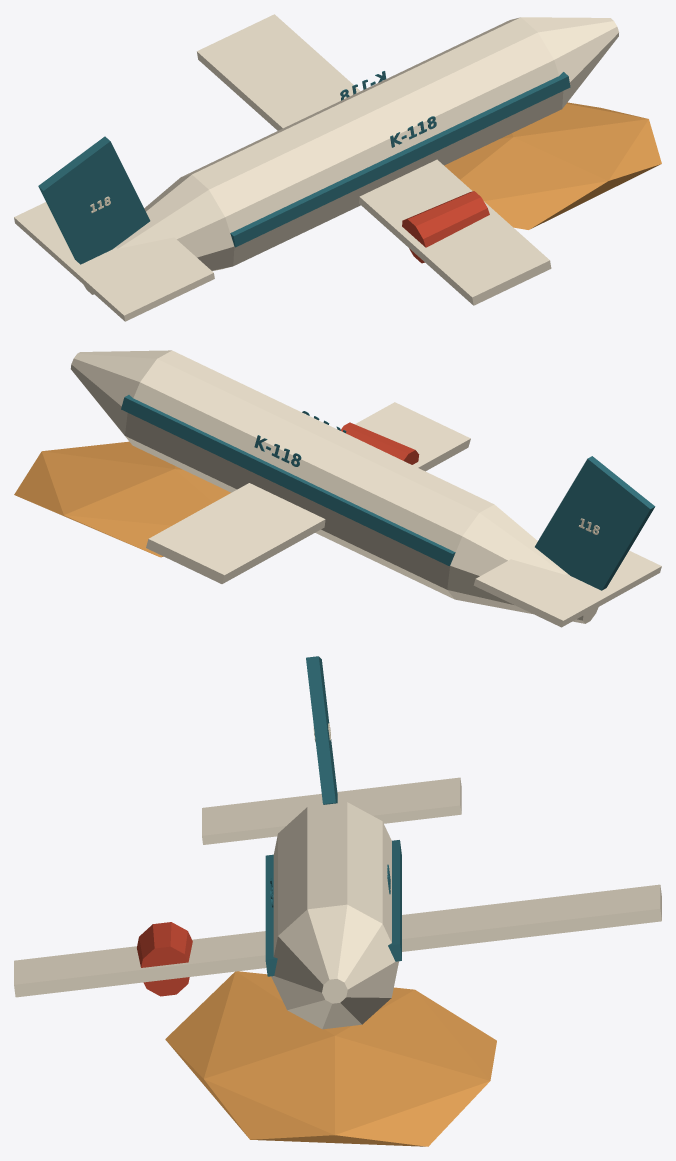
Rendered from aircraft_wreck.glb.
The picture shows the model from 3 angles, top to bottom: view 1: azimuth 30°, elevation 25°; view 2: azimuth 150°, elevation 25°; view 3: azimuth 270°, elevation 25°; orthographic projection. The views are drawn at different scales.
Parts seen in each view (by area): view 1: aircraft_wreck; view 2: aircraft_wreck; view 3: aircraft_wreck.
Part boxes in pixels (bbox=[...]): aircraft_wreck: bbox=[14, 14, 661, 321]; aircraft_wreck: bbox=[14, 350, 661, 627]; aircraft_wreck: bbox=[14, 656, 661, 1146].
Size of the model in its own units: 20.1 by 5.27 by 14.93.
